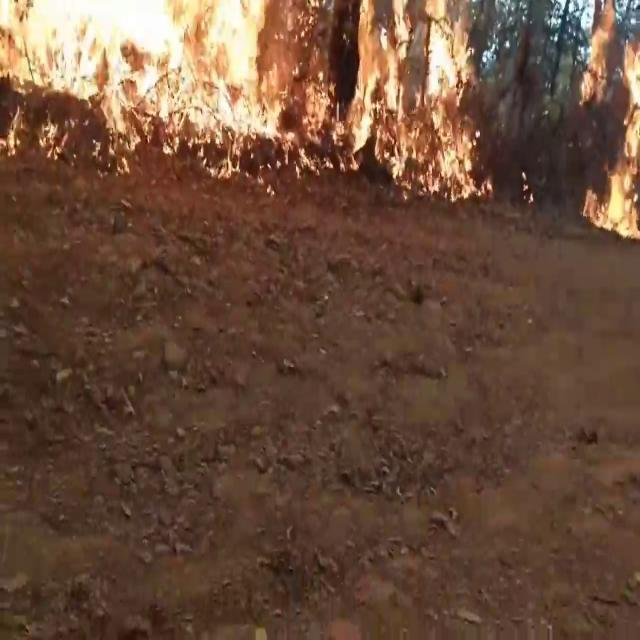Fire: (0, 0, 490, 172), (577, 6, 640, 243)
